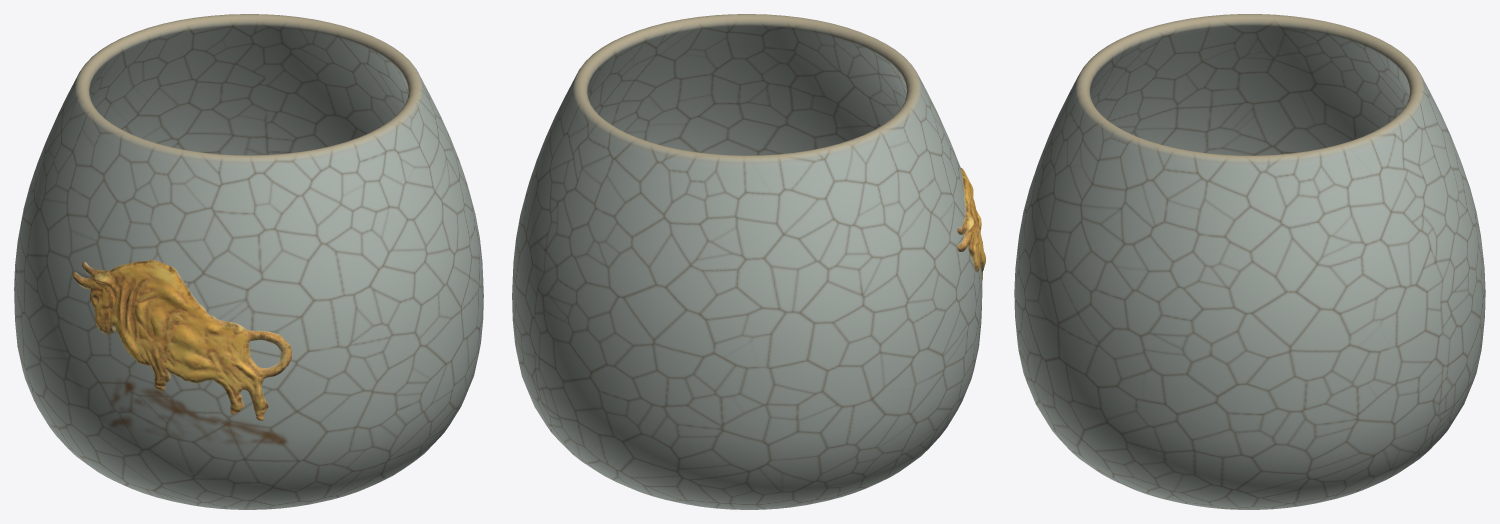
3 renders of one model, left to right at view 1: azimuth 30°, elevation 25°; view 2: azimuth 150°, elevation 25°; view 3: azimuth 270°, elevation 25°, orthographic.
Parts seen in each view (by area): view 1: UVout02:SM_hfcwh_chabei; view 2: UVout02:SM_hfcwh_chabei; view 3: UVout02:SM_hfcwh_chabei.
Boxes of the visible parts, x1=… form: UVout02:SM_hfcwh_chabei: x1=14, y1=14, x2=483, y2=509; UVout02:SM_hfcwh_chabei: x1=512, y1=14, x2=985, y2=509; UVout02:SM_hfcwh_chabei: x1=1014, y1=14, x2=1485, y2=509.
Bounding box in the file's own units: 75.99 × 67.48 × 76.09.
Materials: 1 (1 with a texture image).
